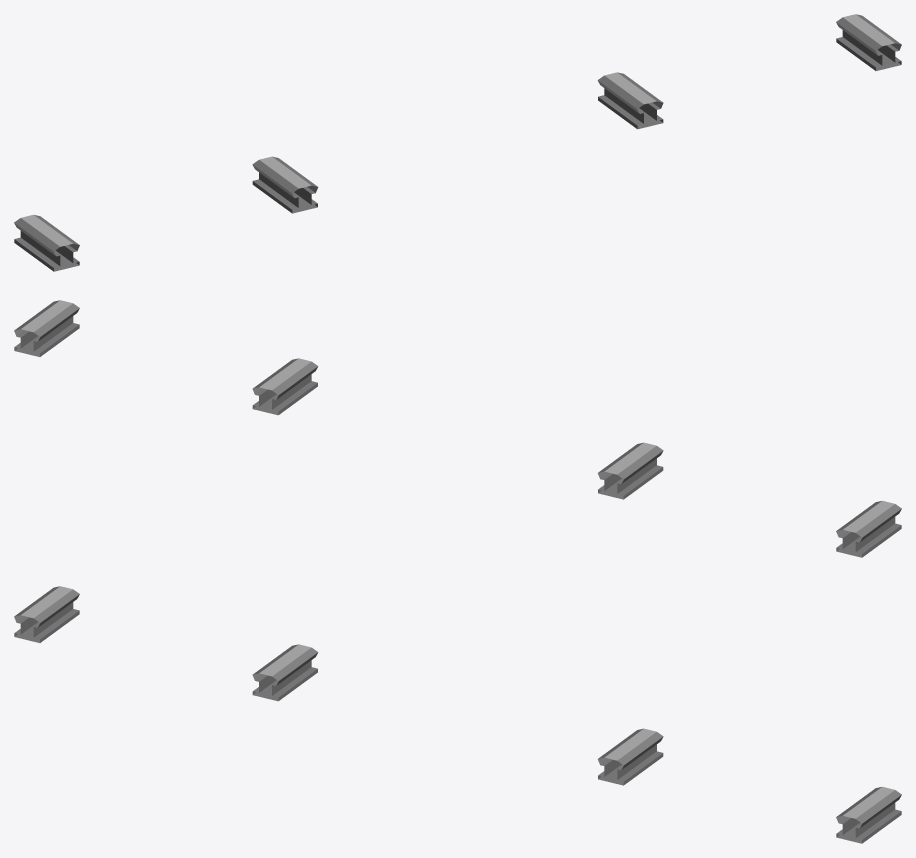
The model's file is bakerStreet_rail.fbx.
3 views of the same model, one above another, from view 1: azimuth 30°, elevation 25°; view 2: azimuth 150°, elevation 25°; view 3: azimuth 330°, elevation 25° (orthographic).
Visible parts, largest first — view 1: Cube; view 2: Cube; view 3: Cube.
Part boxes in pixels (x1,y1,x2,y2): Cube: (14, 14, 901, 271); Cube: (14, 300, 901, 557); Cube: (14, 586, 901, 843).
Size of the model in its own units: 555 by 14.59 by 44.96.
